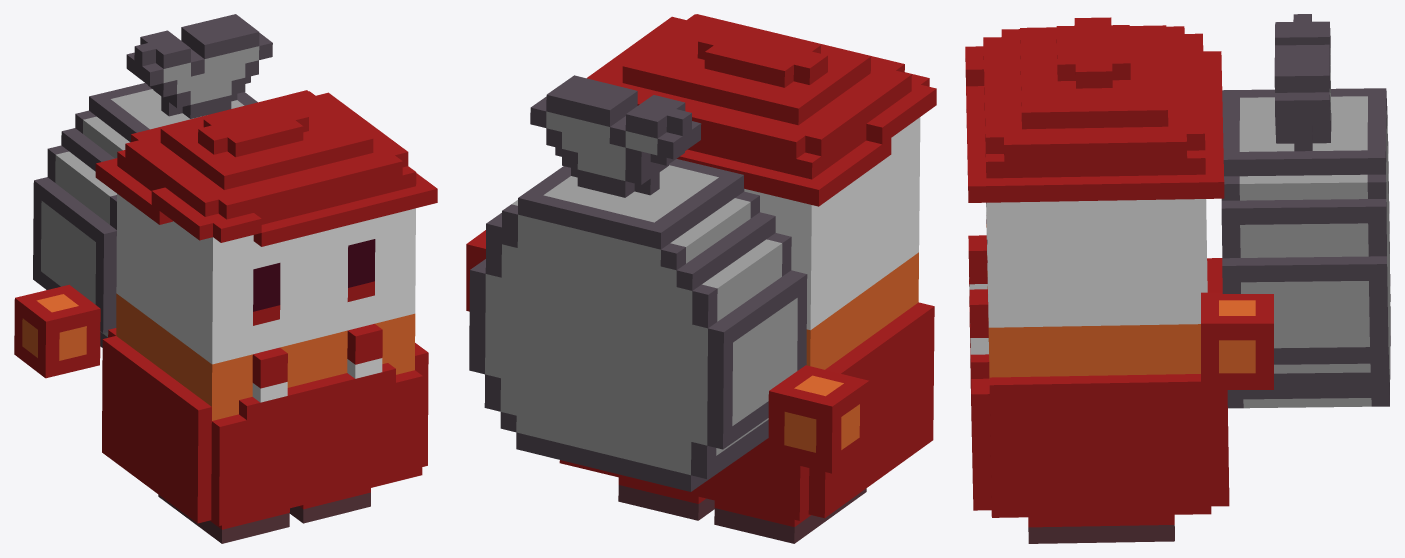
Rendered from p4_trash_hold_1.gltf.
The picture shows the model from 3 angles, left to right: view 1: azimuth 30°, elevation 25°; view 2: azimuth 150°, elevation 25°; view 3: azimuth 270°, elevation 25°; orthographic projection. The views are drawn at different scales.
Parts seen in each view (by area): view 1: Object_0.001, Object_0.002, Object_0; view 2: Object_0.002, Object_0.001, Object_0, Object_0.004; view 3: Object_0.001, Object_0.002, Object_0.004.
Boxes of the visible parts, <box> form: Object_0.001: <box>95,90,437,543</box>; Object_0.002: <box>33,14,272,347</box>; Object_0: <box>14,284,100,378</box>; Object_0.002: <box>469,75,807,491</box>; Object_0.001: <box>559,14,936,543</box>; Object_0: <box>768,365,869,473</box>; Object_0.004: <box>466,230,485,311</box>; Object_0.001: <box>965,17,1229,543</box>; Object_0.002: <box>1221,14,1390,408</box>; Object_0.004: <box>1201,292,1273,389</box>.
Bounding box in the file's own units: 2.39 × 2.81 × 2.33.
Materials: 4 (4 with a texture image).
